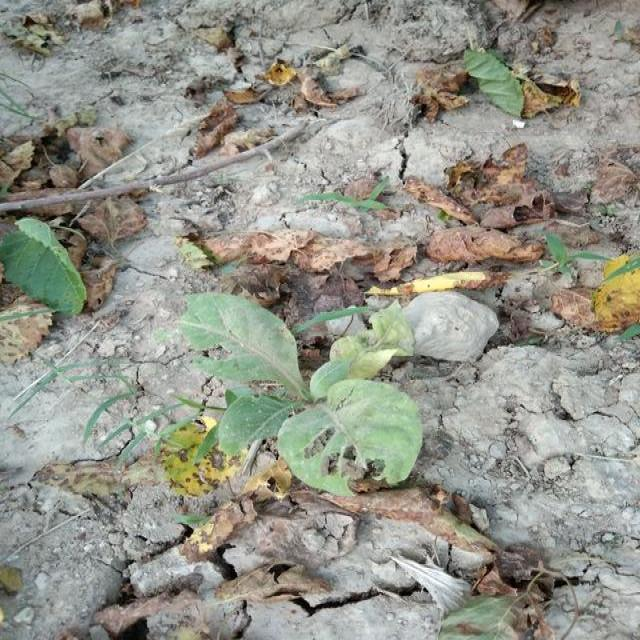crop: (178, 296, 428, 498)
